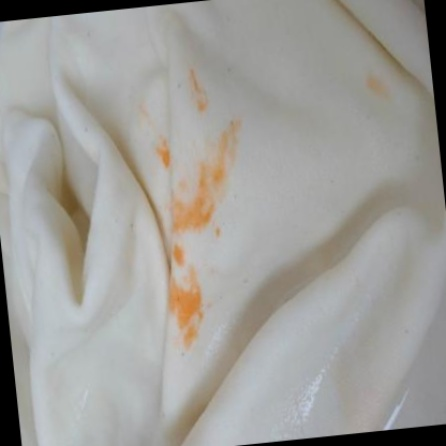kimchi: (155, 120, 255, 250), (145, 248, 222, 357), (174, 62, 218, 122), (142, 99, 174, 172), (353, 64, 392, 112)
